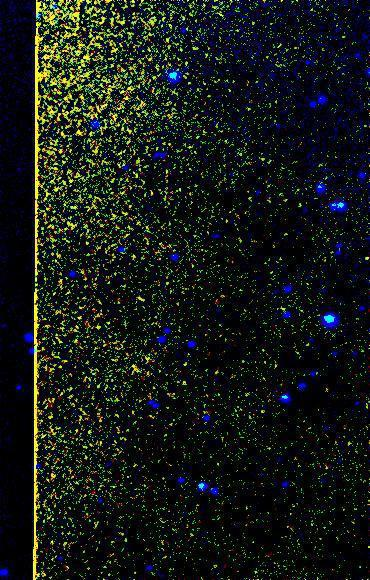star: (351, 243, 370, 273)
